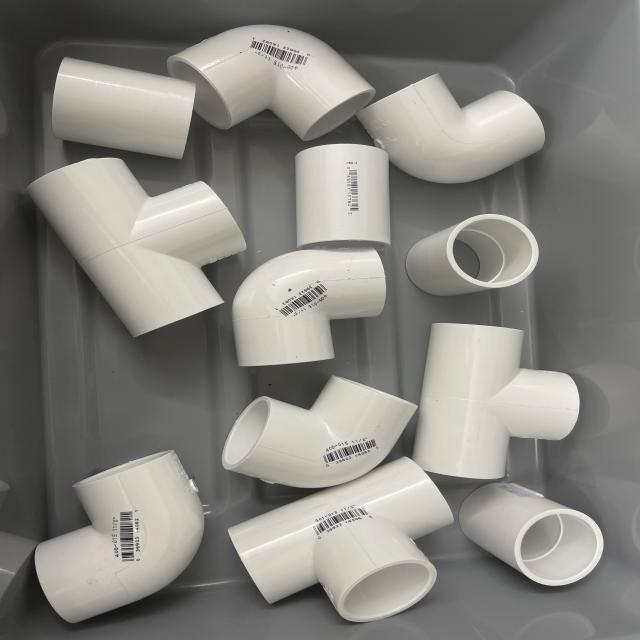L Joint: (31, 450, 205, 625), (174, 24, 375, 142), (222, 376, 417, 491), (360, 73, 544, 186), (233, 248, 386, 368)
T Joint: (28, 158, 249, 338), (228, 456, 448, 624), (422, 323, 580, 479)
